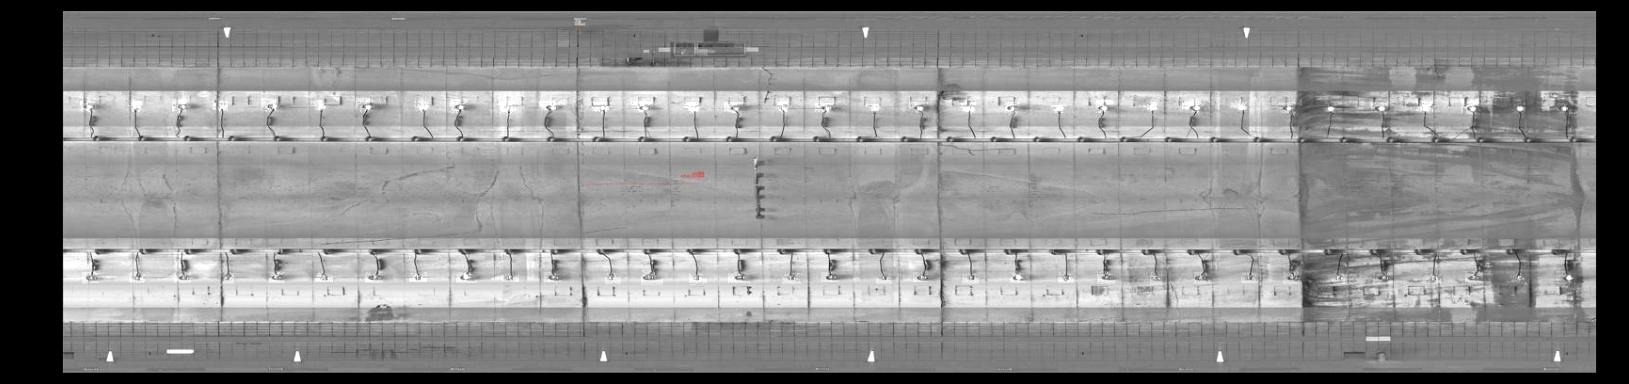light: (1461, 99, 1481, 115), (641, 270, 663, 285), (261, 98, 279, 114), (497, 101, 516, 115), (1182, 101, 1203, 114), (1283, 271, 1304, 284), (356, 98, 374, 113), (450, 99, 468, 114), (689, 271, 707, 285), (1556, 271, 1576, 284), (631, 101, 653, 112), (456, 271, 477, 283), (1416, 101, 1434, 115), (728, 272, 750, 283), (592, 102, 612, 114), (1373, 272, 1393, 284), (1194, 272, 1213, 284), (172, 99, 189, 113), (1096, 100, 1113, 114), (1512, 100, 1528, 114), (605, 270, 621, 284), (311, 100, 328, 113), (1097, 271, 1115, 284), (1507, 272, 1530, 282), (538, 101, 557, 113), (1370, 102, 1389, 114), (782, 272, 801, 284), (724, 102, 744, 113), (684, 102, 700, 115), (962, 271, 979, 284), (1231, 100, 1249, 112), (1423, 272, 1441, 284), (909, 102, 928, 113), (1465, 271, 1484, 282), (365, 272, 383, 283), (213, 101, 228, 115), (219, 270, 234, 284), (1279, 102, 1296, 114), (129, 272, 145, 284), (82, 272, 99, 284), (409, 271, 427, 282), (173, 272, 191, 283), (128, 101, 142, 114), (413, 101, 429, 113), (814, 103, 835, 112), (960, 101, 976, 113), (1556, 102, 1572, 114), (1331, 272, 1346, 284), (1241, 273, 1260, 283), (821, 272, 839, 282), (315, 272, 333, 282), (1058, 272, 1074, 283), (1010, 272, 1026, 283), (502, 272, 519, 282), (1149, 272, 1163, 285), (1143, 102, 1158, 113), (269, 272, 285, 283), (876, 274, 892, 284), (544, 272, 561, 282), (80, 101, 95, 112), (1320, 104, 1338, 113), (913, 272, 928, 282), (1005, 102, 1020, 111), (1051, 105, 1067, 114), (777, 101, 787, 113), (866, 104, 879, 114)
